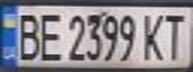2: (63, 10, 87, 62)
3: (84, 10, 103, 62)
9: (118, 10, 142, 62), (100, 10, 121, 62)
B: (9, 9, 42, 61)
E: (36, 9, 63, 62)
K: (139, 10, 169, 62)
T: (160, 10, 190, 61)
